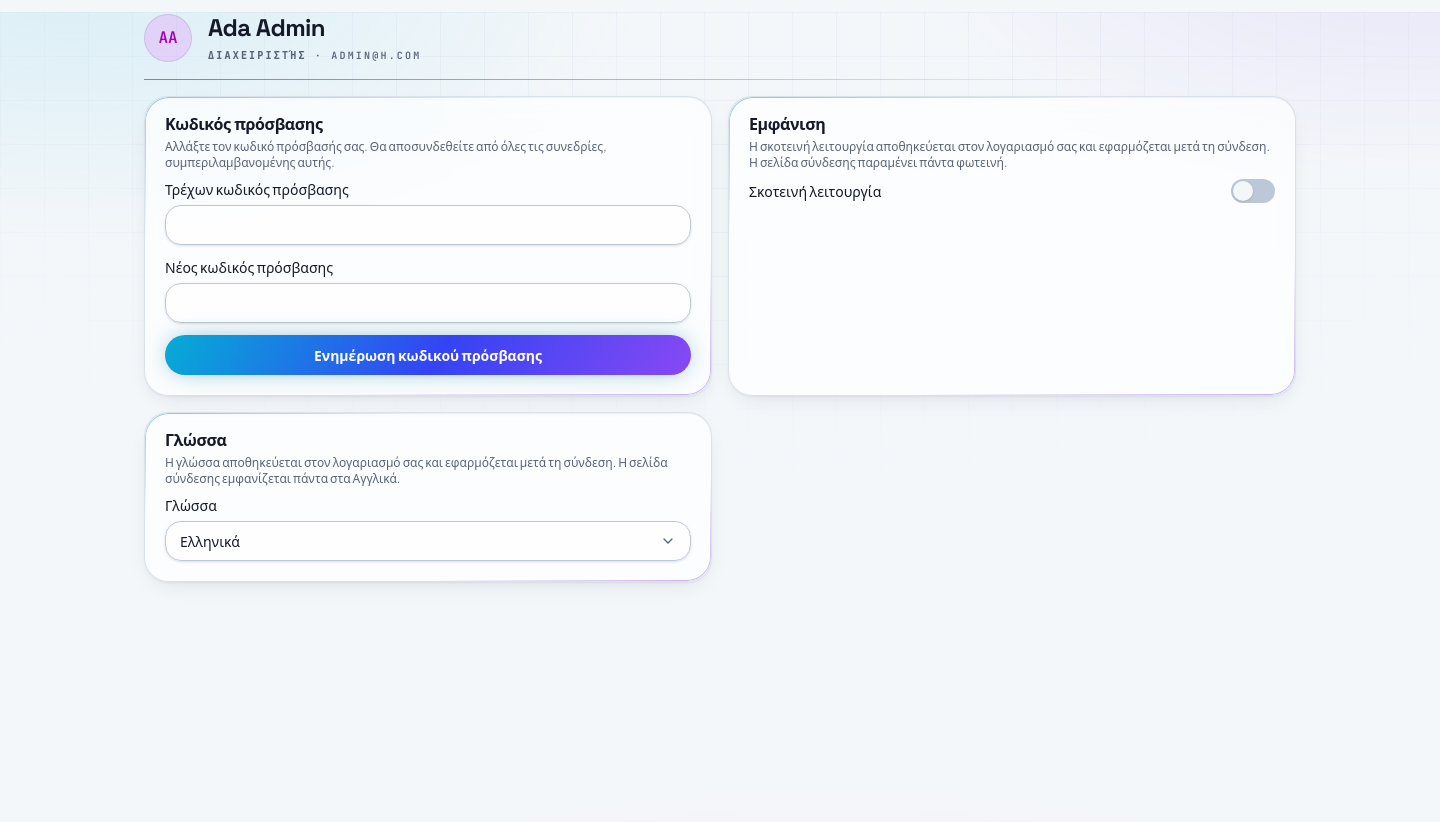
Test: ProfilePage in Greek › renders the role, labels and fallback errors in the active UI language
Expected: the label "Τρέχων κωδικός πρόσβασης" is shown, [165, 180, 349, 198]
Click the switch. click: point(1253, 191)
box: [1231, 179, 1275, 203]
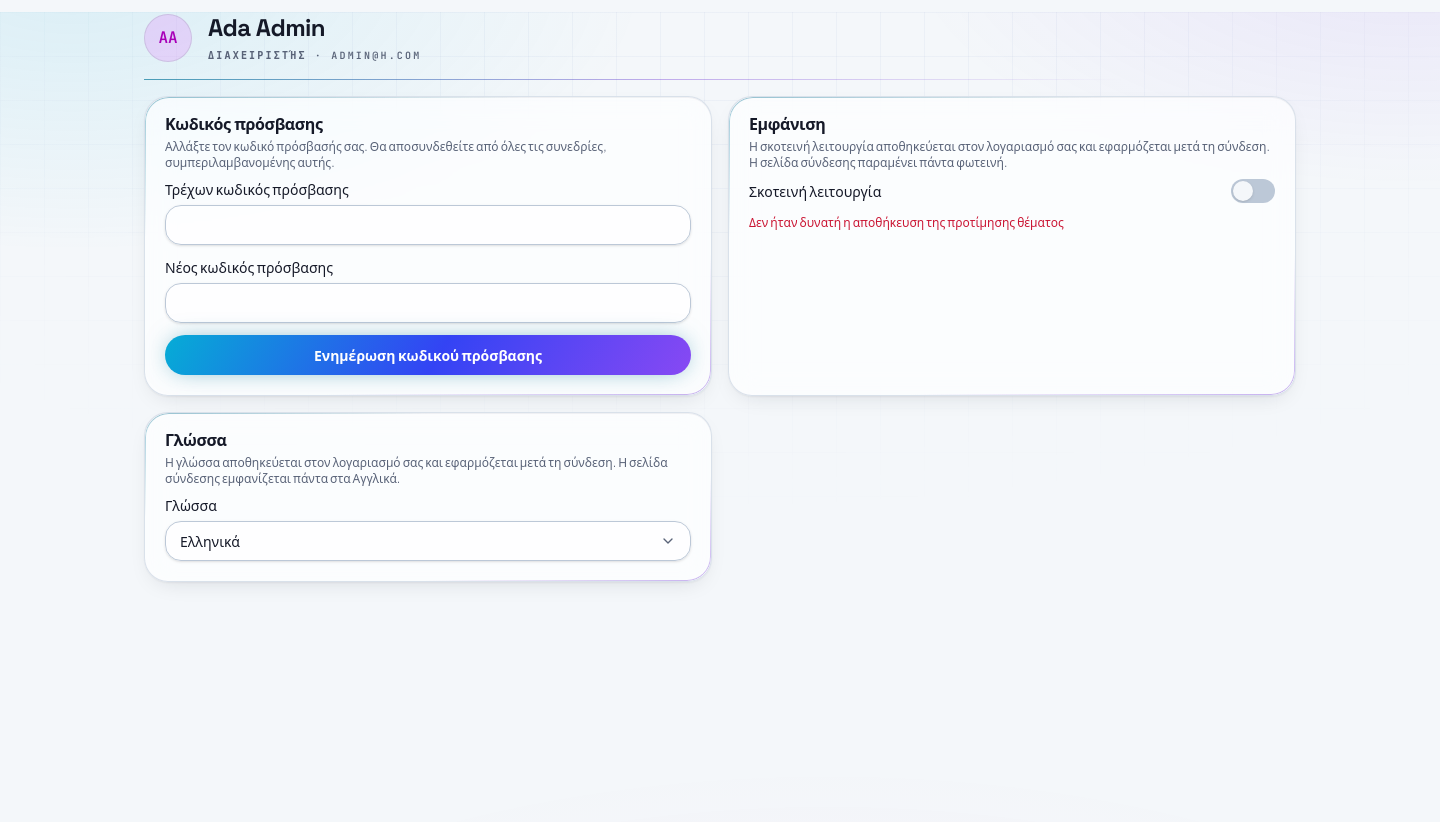
Result: the message "Δεν ήταν δυνατή η αποθήκευση της προτίμησης θέματος" is shown at [749, 215, 1064, 230]
